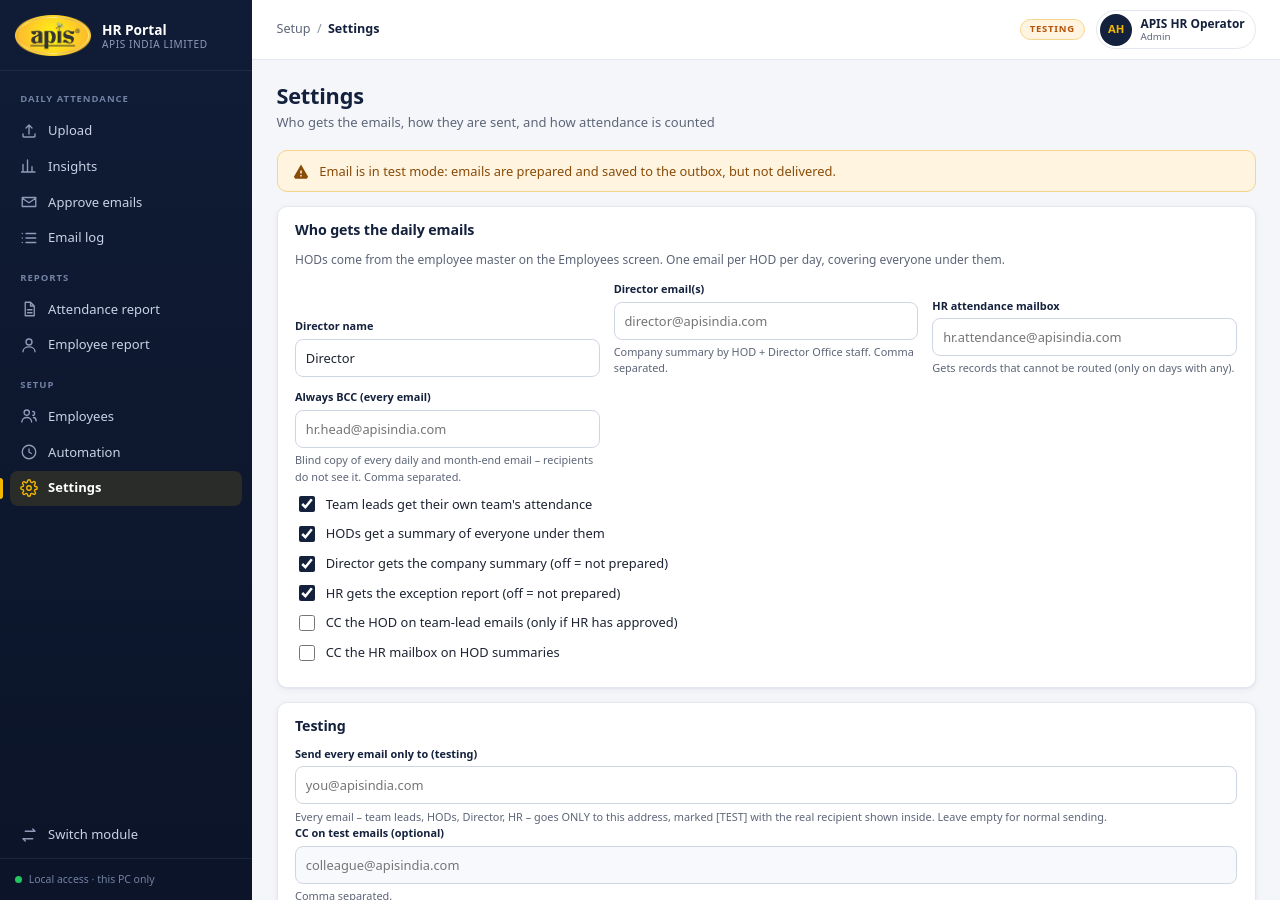
Scenario: settings: Director and HR mailboxes are saved as lists with the routing switches
Type "md@example.com, cfo@example.com" into the field with placeholder "director@apisindia.com" at (766, 321), box [614,302,918,340]
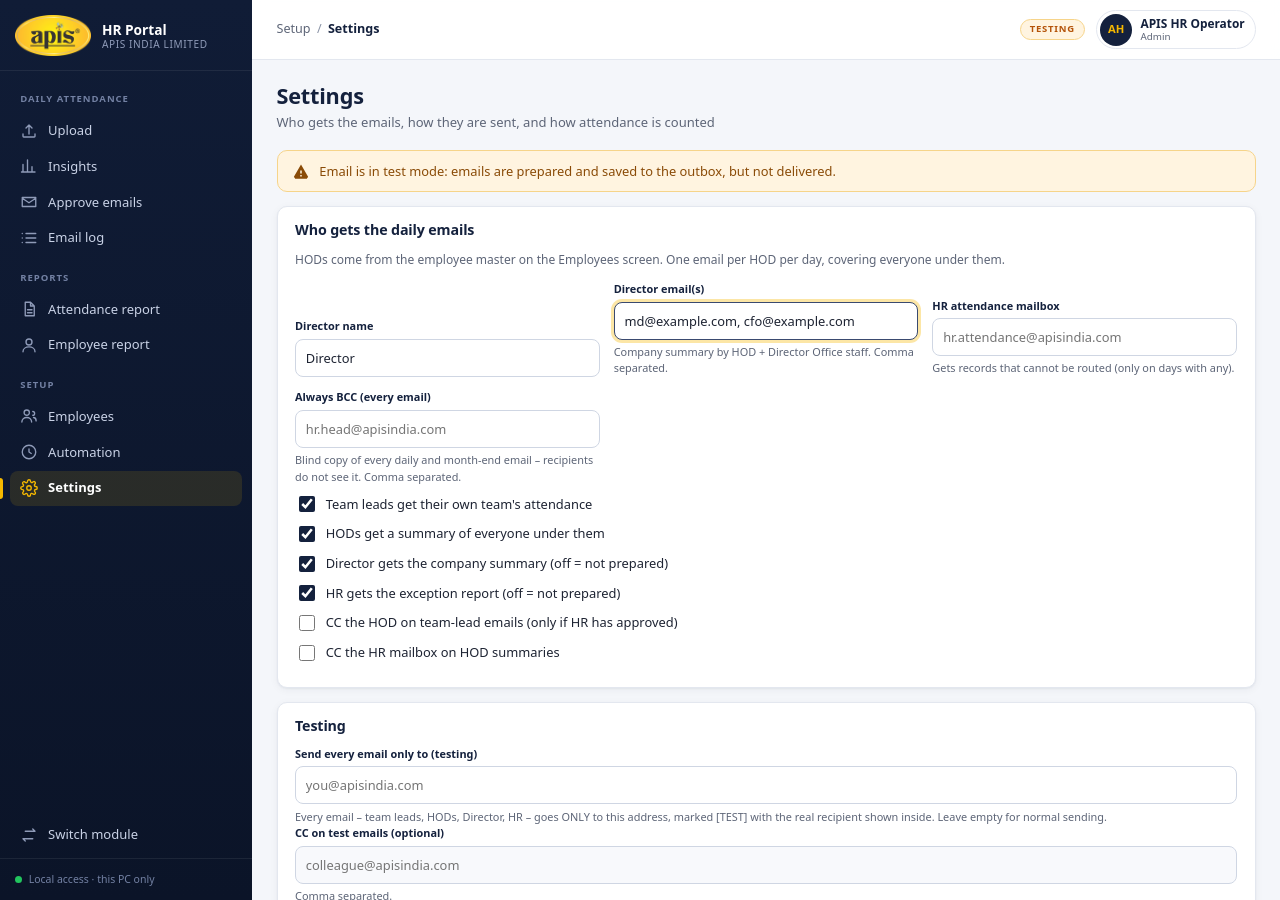
Type "hr@example.com" into the field with placeholder "hr.attendance@apisindia.com" at (1085, 337), box [932,318,1237,356]
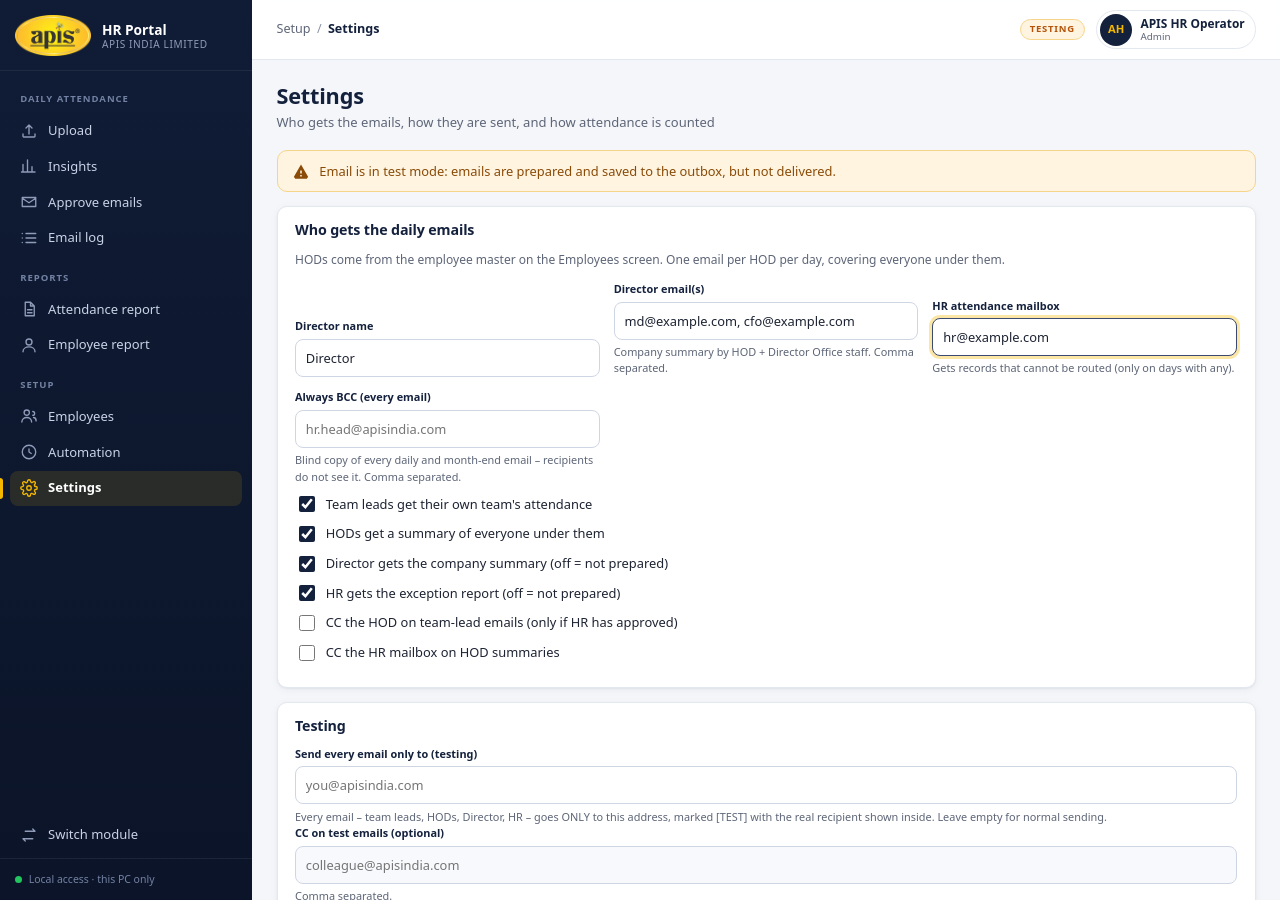
Click the checkbox labelled "CC the HOD on team-lead emails (only if HR has approved)" at (307, 623), box [299,615,315,631]
(page scrolled)
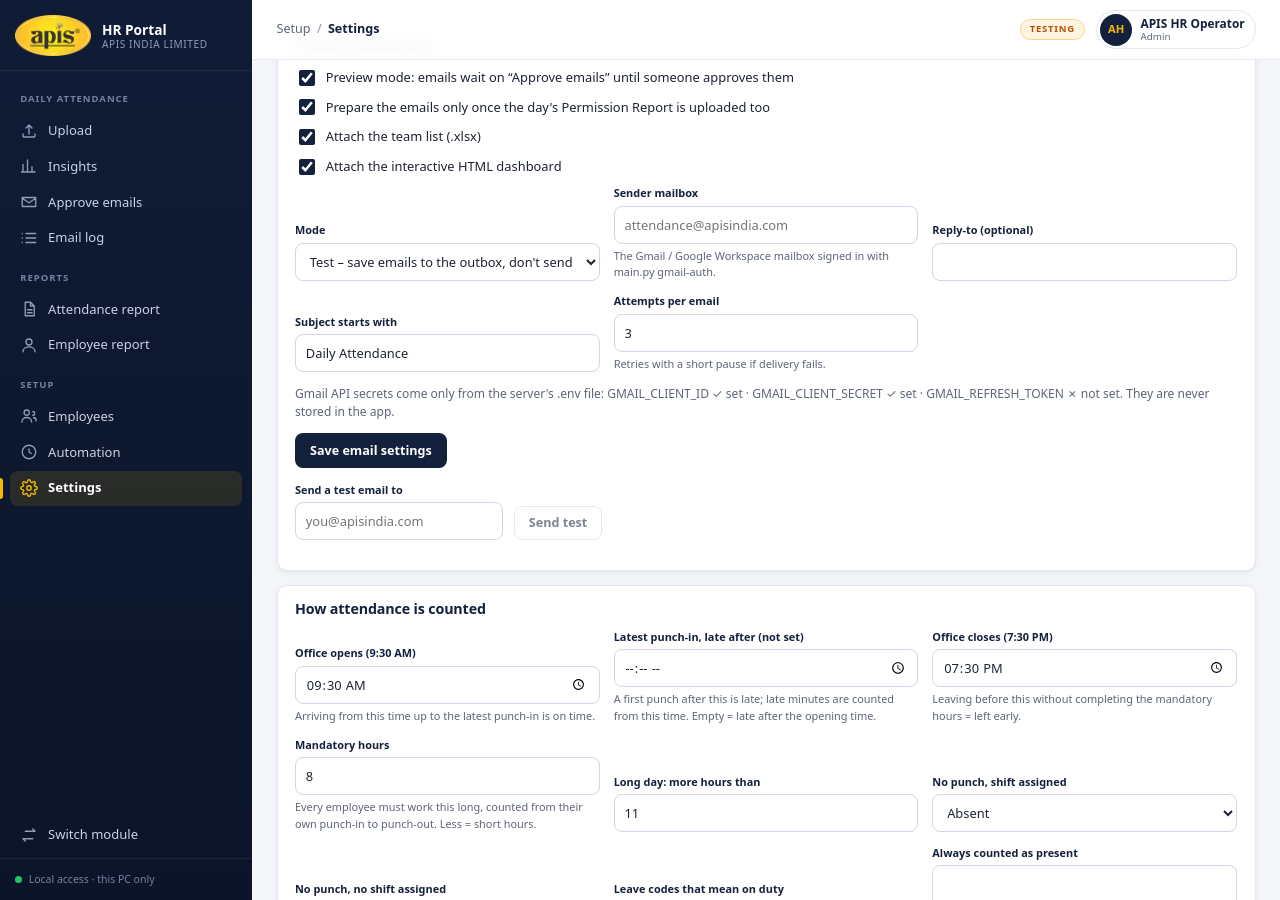
Expected: the text "GMAIL_REFRESH_TOKEN ✗ not set" is shown, [607,384,1120,402]
Click the button "Save email settings" at (371, 450), box [295,433,447,468]
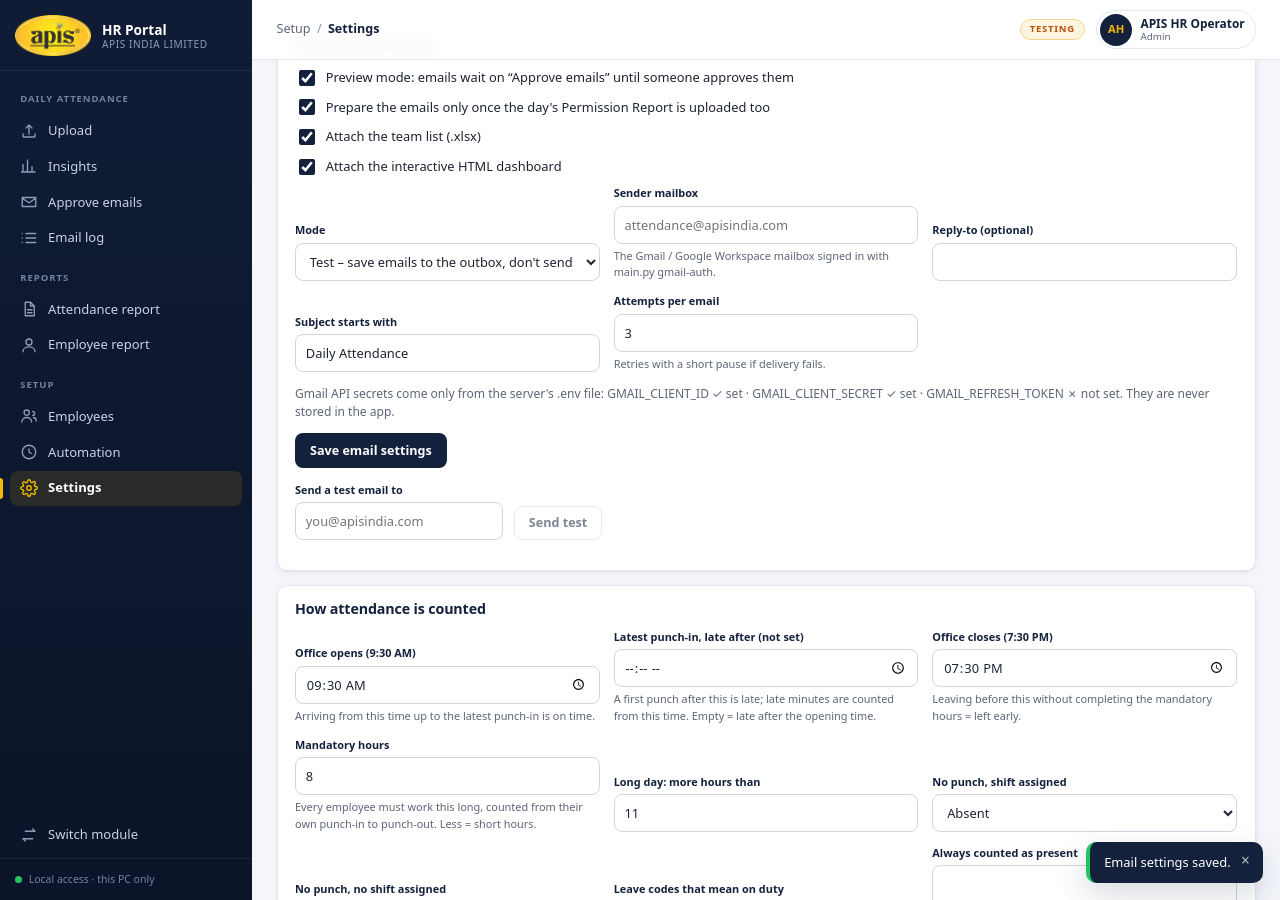
Now the text "Email settings saved." is shown, box [1104,853,1231,872]
